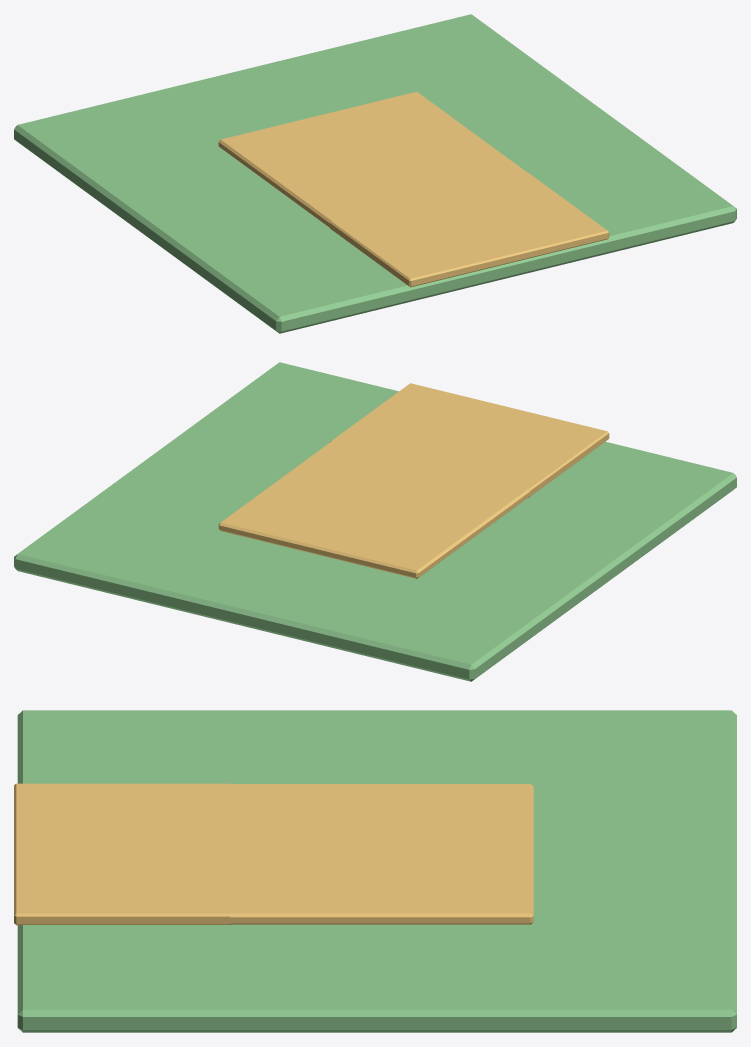
Rendered from ROAD_DIRT_1x1_END.glb.
3 views of the same model, one above another, from view 1: azimuth 30°, elevation 25°; view 2: azimuth 150°, elevation 25°; view 3: azimuth 270°, elevation 25° (orthographic). The views are drawn at different scales.
Visible parts, largest first — view 1: ROAD_DIRT_1x1_END_Visual; view 2: ROAD_DIRT_1x1_END_Visual; view 3: ROAD_DIRT_1x1_END_Visual.
Part boxes in pixels (<box>): ROAD_DIRT_1x1_END_Visual: <box>14,14,736,333</box>; ROAD_DIRT_1x1_END_Visual: <box>14,362,736,681</box>; ROAD_DIRT_1x1_END_Visual: <box>14,710,736,1032</box>.
Size of what is drawn, in the model's own units: 1.98 by 0.1045 by 1.99.
